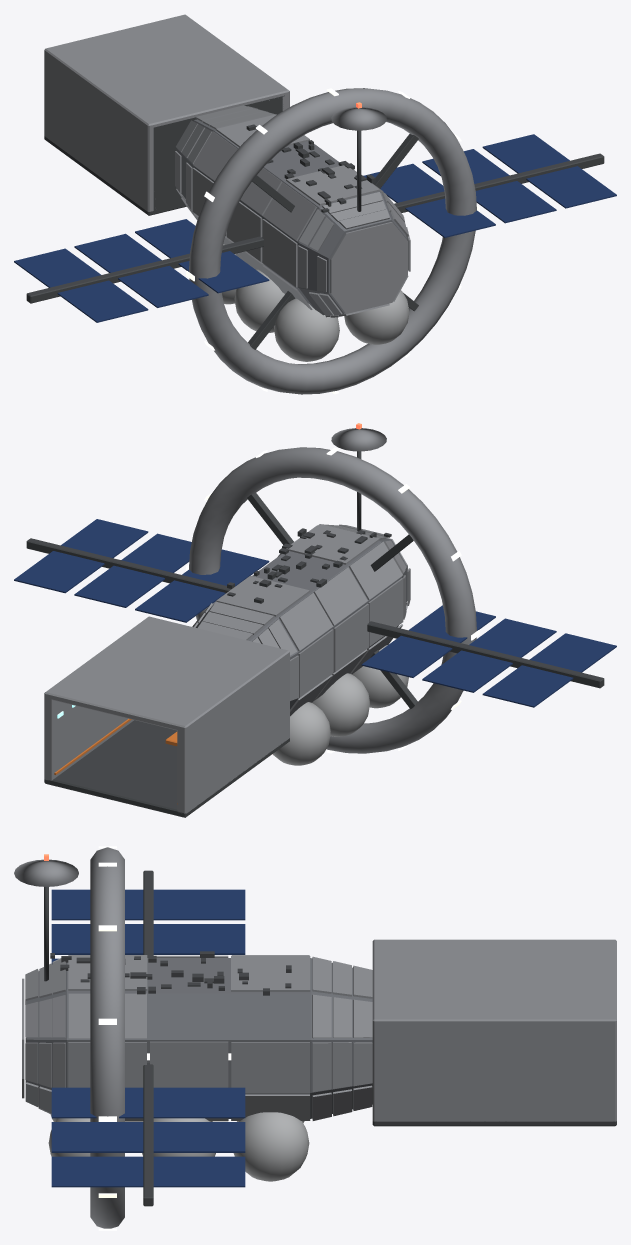
File: station.glb
3 views of the same model, one above another, from view 1: azimuth 30°, elevation 25°; view 2: azimuth 150°, elevation 25°; view 3: azimuth 270°, elevation 25° (orthographic). The views are drawn at different scales.
Parts seen in each view (by area): view 1: RingTube, HubPlates, BayRoof, BayWall_-1, Hub, Solar_1_2, Solar_-1_1, Solar_-1_2, Solar_1_0, Solar_1_1, Tank_0_-1, Solar_-1_0 (+10 smaller); view 2: HubPlates, RingTube, BayRoof, BayWall_-1, BayFloor, Solar_-1_1, Solar_-1_2, Solar_1_2, Solar_1_1, BayWall_1, Solar_1_0, Solar_-1_0 (+9 smaller); view 3: HubPlates, BayWall_1, BayRoof, Hub, RingTube, Solar_1_2, Solar_1_1, Solar_1_0, Solar_-1_2, Solar_-1_1, Tank_2_1, HubMachinery (+4 smaller).
Part boxes in pixels (<box>): RingTube: <box>189,88,476,394</box>; HubPlates: <box>175,105,410,317</box>; BayRoof: <box>44,14,289,129</box>; BayWall_-1: <box>44,54,153,211</box>; Hub: <box>177,119,407,315</box>; Solar_1_2: <box>482,134,616,208</box>; Solar_-1_1: <box>74,233,208,307</box>; Solar_-1_2: <box>14,248,148,322</box>; Solar_1_0: <box>363,163,495,237</box>; Solar_1_1: <box>422,149,556,223</box>; Tank_0_-1: <box>274,298,339,361</box>; Solar_-1_0: <box>135,219,269,293</box>; HubPlates: <box>192,524,410,716</box>; RingTube: <box>189,447,476,753</box>; BayRoof: <box>44,616,289,731</box>; BayWall_-1: <box>177,655,289,813</box>; BayFloor: <box>44,720,289,817</box>; Solar_-1_1: <box>422,618,556,692</box>; Solar_-1_2: <box>482,633,616,707</box>; Solar_1_2: <box>14,519,148,593</box>; Solar_1_1: <box>74,533,191,607</box>; BayWall_1: <box>44,696,133,780</box>; Solar_1_0: <box>135,549,269,622</box>; Solar_-1_0: <box>361,605,495,677</box>; HubPlates: <box>22,955,372,1121</box>; BayWall_1: <box>372,1024,616,1121</box>; BayRoof: <box>372,939,616,1025</box>; Hub: <box>26,958,372,1118</box>; RingTube: <box>90,847,124,1228</box>; Solar_1_2: <box>51,1156,245,1187</box>; Solar_1_1: <box>51,1122,245,1152</box>; Solar_1_0: <box>51,1087,245,1118</box>; Solar_-1_2: <box>51,889,245,920</box>; Solar_-1_1: <box>51,924,245,954</box>; Tank_2_1: <box>233,1112,309,1181</box>; HubMachinery: <box>50,951,291,995</box>.
Size of the model in its own units: 38 by 19.39 by 29.6.
